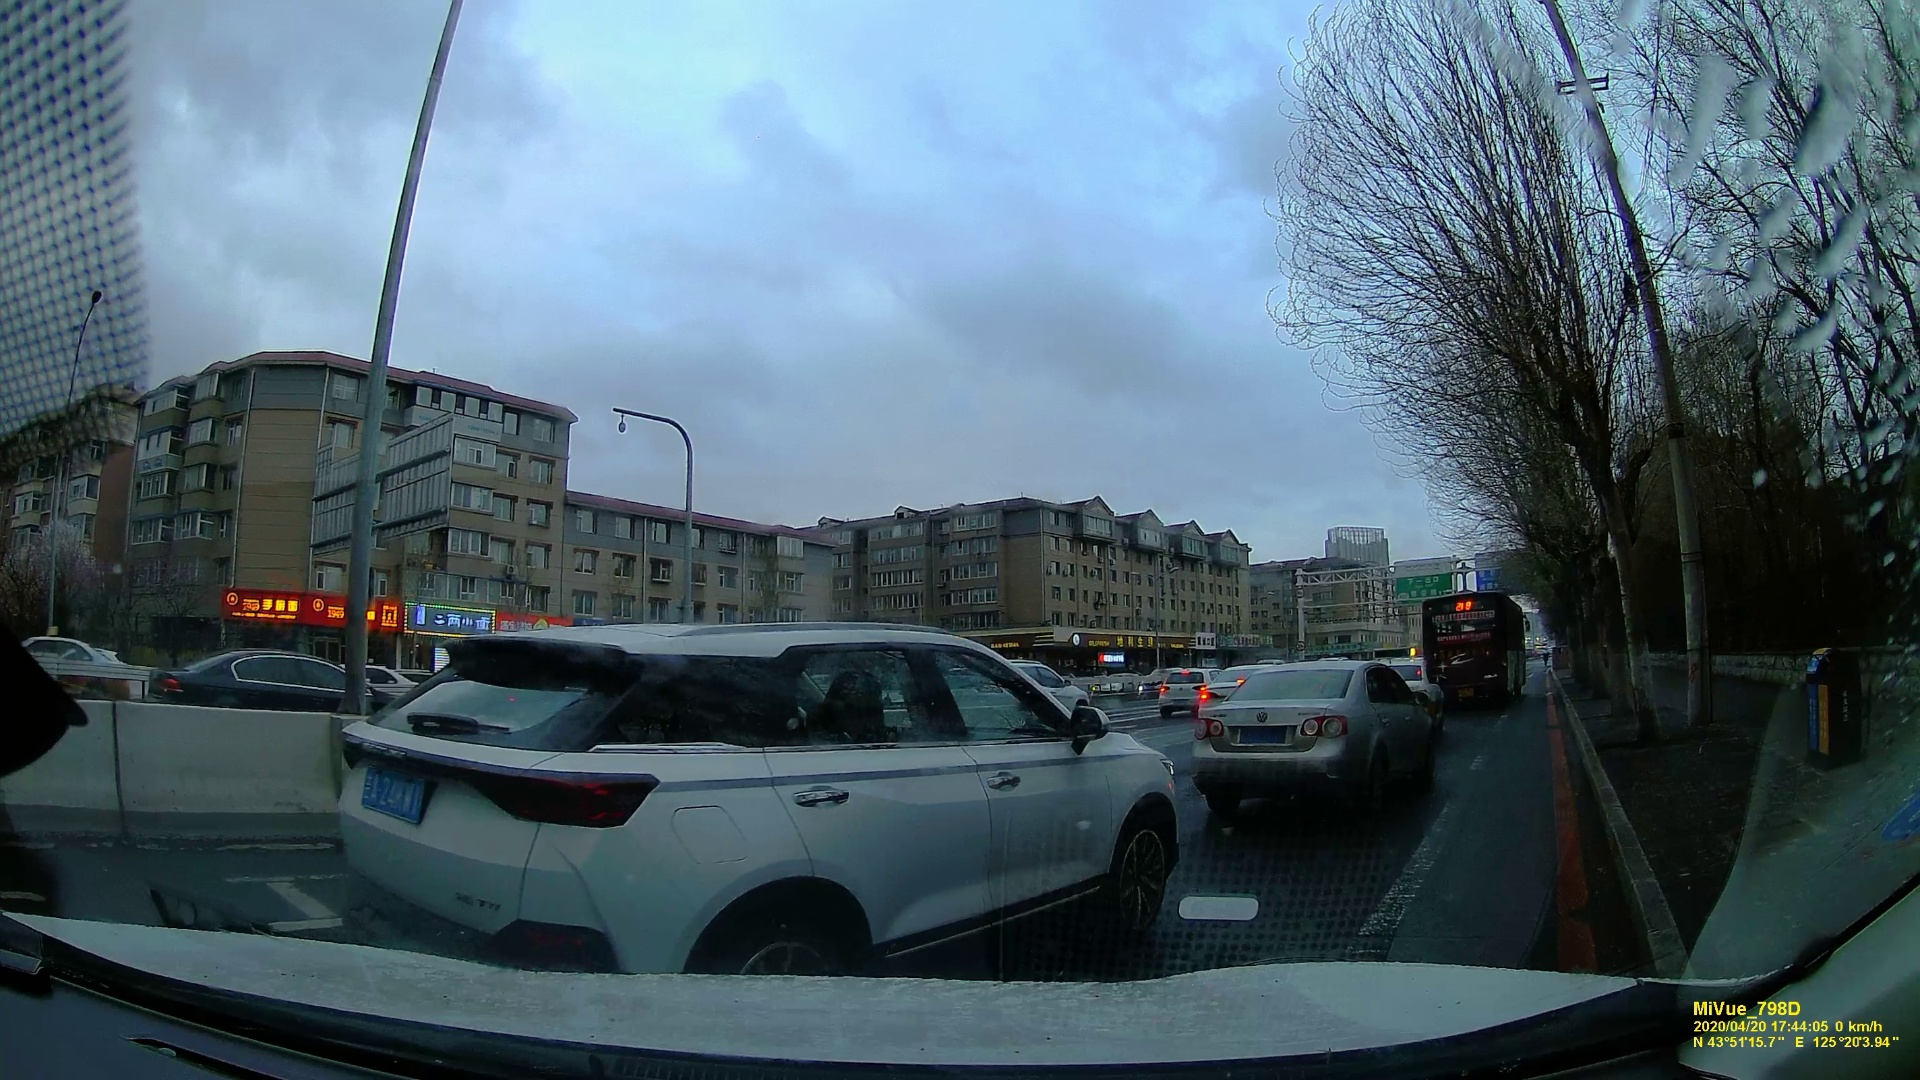bus: (1422, 595, 1530, 702)
traffic_sign: (1470, 550, 1531, 591), (1391, 559, 1451, 596)
vehicle: (343, 622, 1178, 986), (1192, 655, 1444, 819), (157, 644, 344, 709), (1156, 671, 1205, 717)
